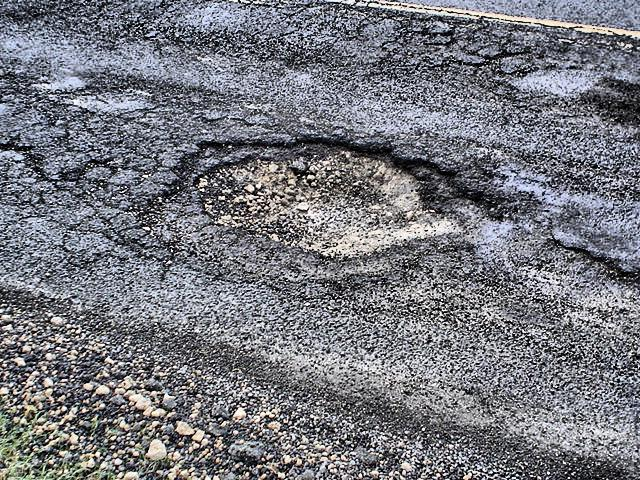pothole: (187, 135, 463, 254)
